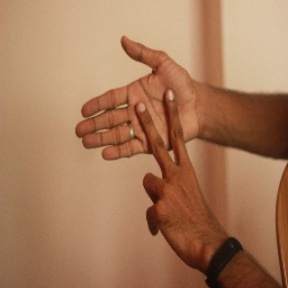N: (74, 34, 209, 221)
